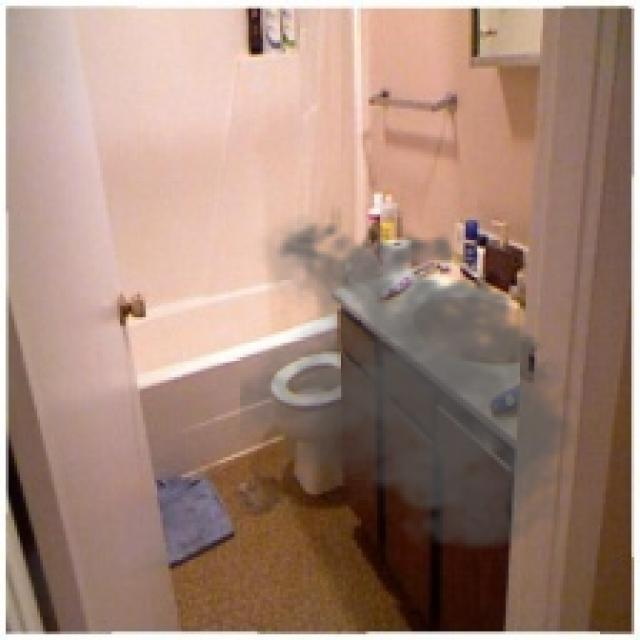Smoke: (239, 212, 592, 557)
